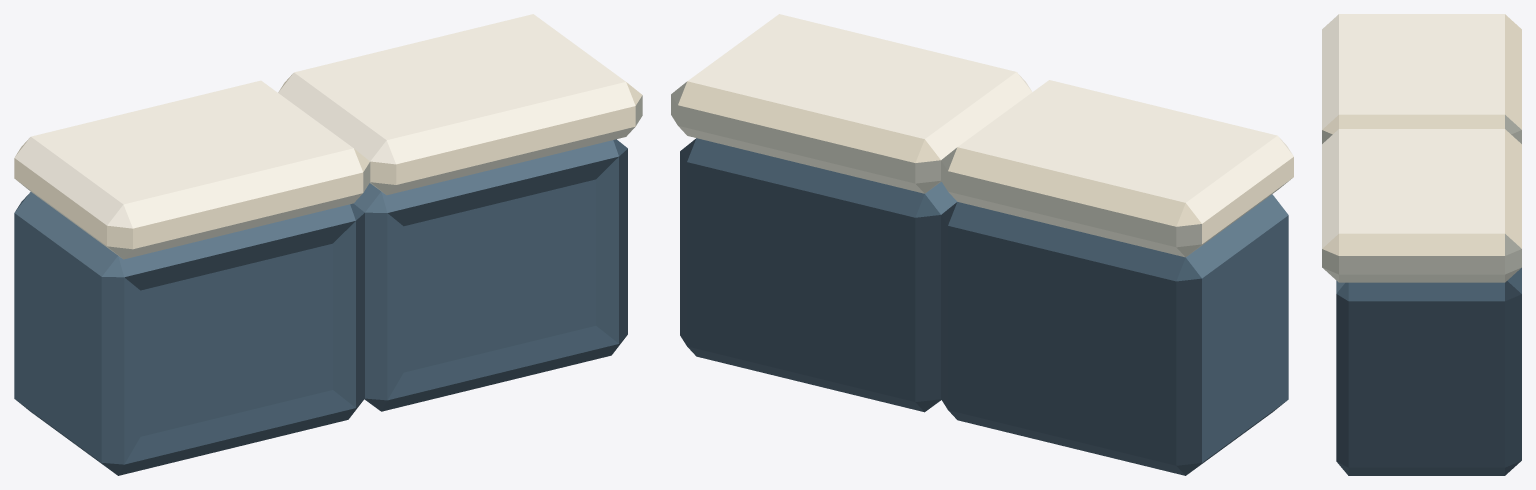
File: Terrain_TopRun2R.gltf
3 views of the same model, side by side, from view 1: azimuth 30°, elevation 25°; view 2: azimuth 150°, elevation 25°; view 3: azimuth 270°, elevation 25° (orthographic). The views are drawn at different scales.
Parts seen in each view (by area): view 1: Terrain_TopRun2R_baked; view 2: Terrain_TopRun2R_baked; view 3: Terrain_TopRun2R_baked.
Part boxes in pixels (x1=…): Terrain_TopRun2R_baked: x1=14, y1=14, x2=642, y2=475; Terrain_TopRun2R_baked: x1=671, y1=14, x2=1293, y2=475; Terrain_TopRun2R_baked: x1=1322, y1=14, x2=1521, y2=475.
Size of the model in its own units: 2.03 by 1 by 0.735.
